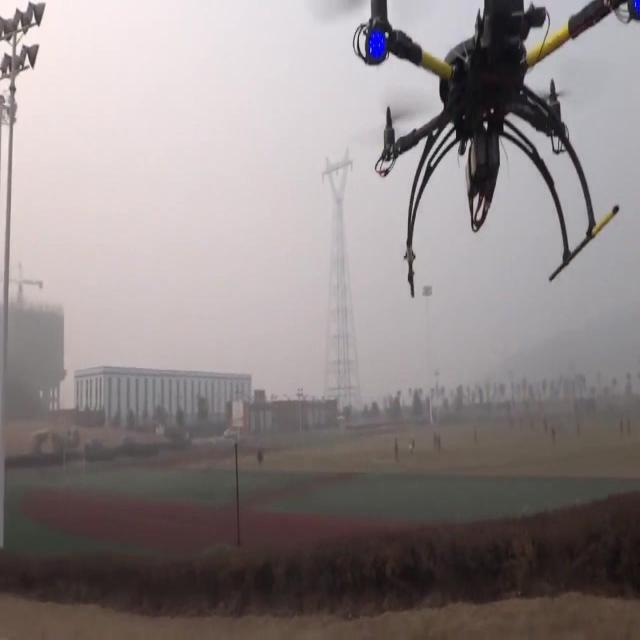drone: (353, 0, 640, 299)
